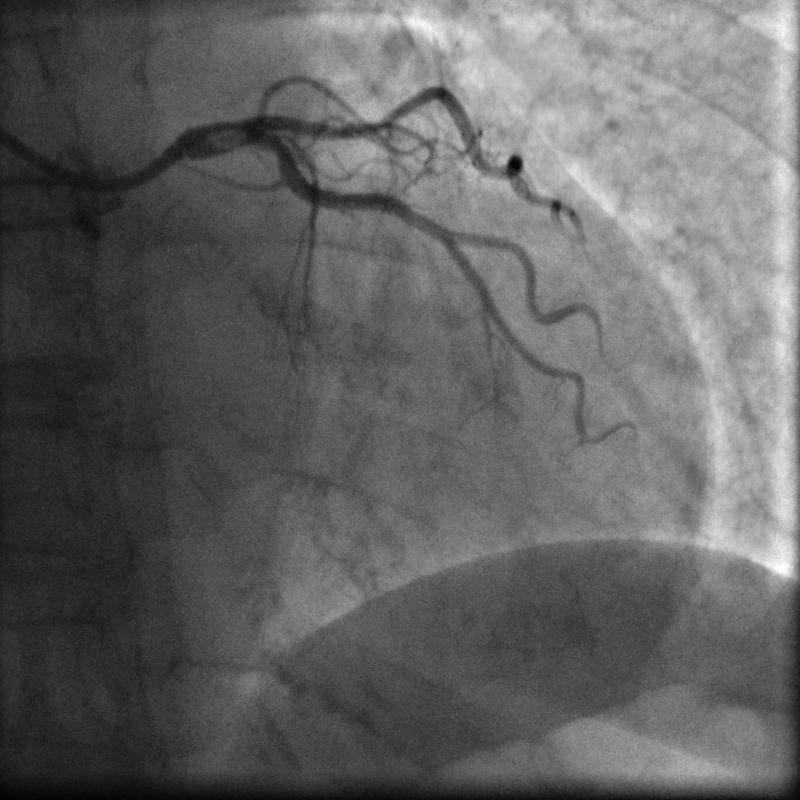Stenosis: (324, 123, 345, 138)
